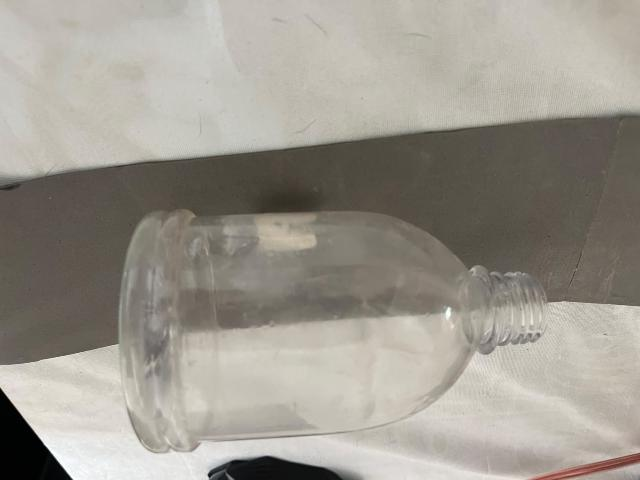PET: (91, 176, 580, 469)
